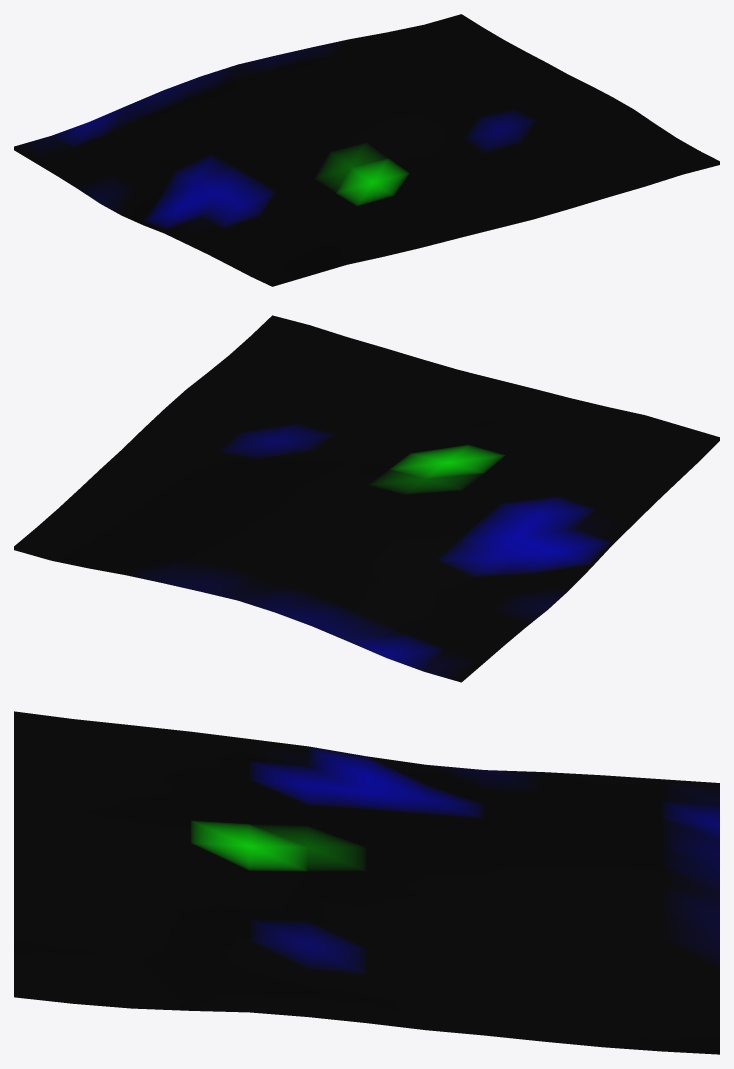
The model's file is coast_8_0.glb.
3 views of the same model, one above another, from view 1: azimuth 30°, elevation 25°; view 2: azimuth 150°, elevation 25°; view 3: azimuth 270°, elevation 25° (orthographic). The views are drawn at different scales.
Parts seen in each view (by area): view 1: terrain; view 2: terrain; view 3: terrain.
Boxes of the visible parts, x1,y1,x2,y2 form: terrain: (14,14,719,286); terrain: (14,315,719,682); terrain: (14,711,719,1054).
Bounding box in the file's own units: 192 × 28.23 × 192.
